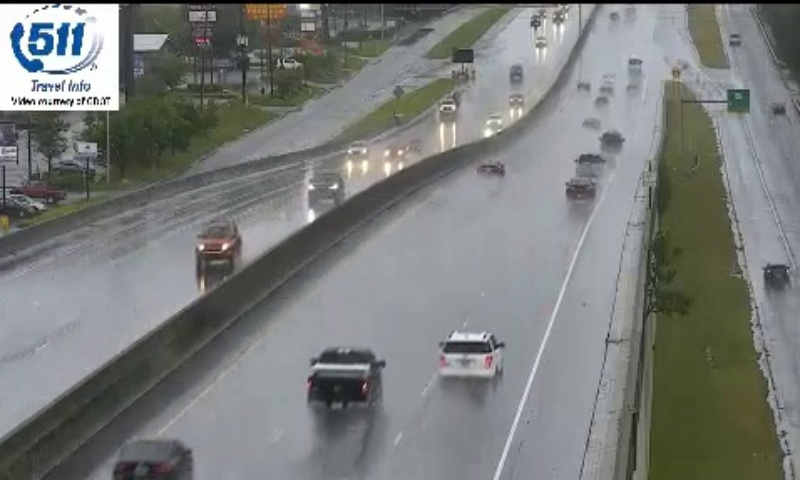car: (307, 348, 381, 405), (115, 440, 192, 480), (438, 333, 502, 380), (575, 152, 605, 179), (565, 177, 594, 203)
